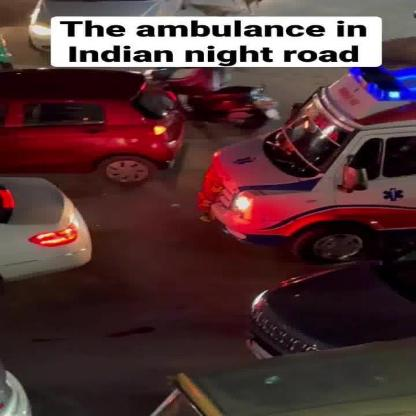priority: (198, 67, 416, 227)
